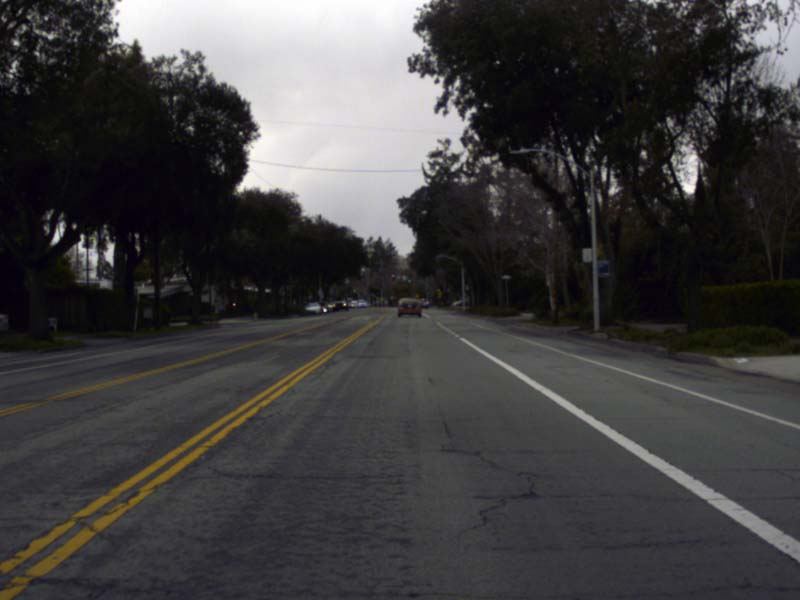Green: (352, 285, 355, 292), (407, 276, 410, 282), (427, 289, 429, 293)
Red: (391, 274, 394, 280)
